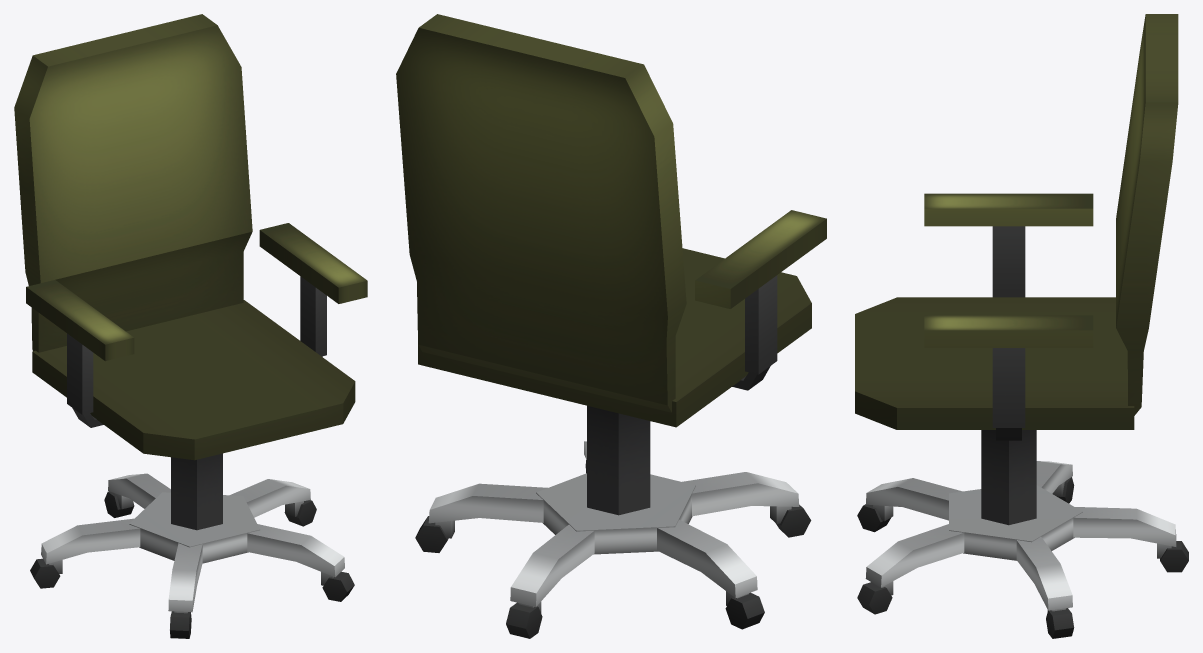
File: Chair_Office_Olive.fbx
3 views of the same model, side by side, from view 1: azimuth 30°, elevation 25°; view 2: azimuth 150°, elevation 25°; view 3: azimuth 270°, elevation 25° (orthographic). The views are drawn at different scales.
Parts seen in each view (by area): view 1: Chair_Office_Olive; view 2: Chair_Office_Olive; view 3: Chair_Office_Olive.
Boxes of the visible parts, x1=… form: Chair_Office_Olive: x1=14, y1=14, x2=367, y2=638; Chair_Office_Olive: x1=396, y1=14, x2=826, y2=638; Chair_Office_Olive: x1=855, y1=14, x2=1188, y2=638.
Bounding box in the file's own units: 69.71 × 112 × 66.73.
